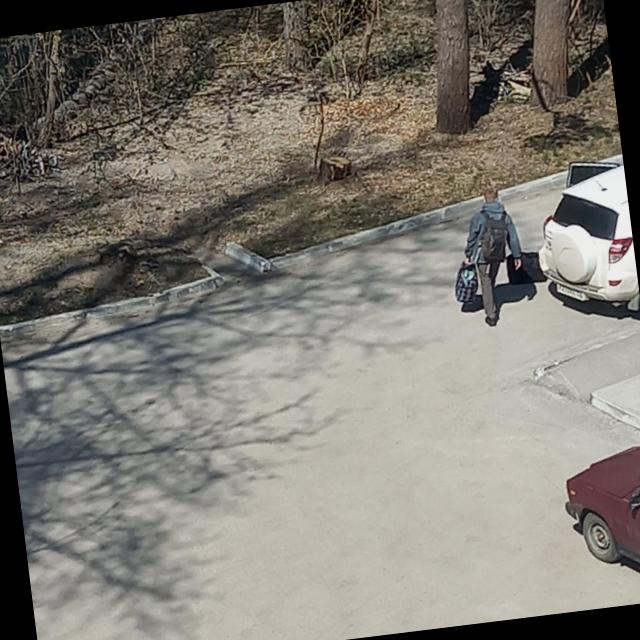person: (456, 184, 530, 327)
